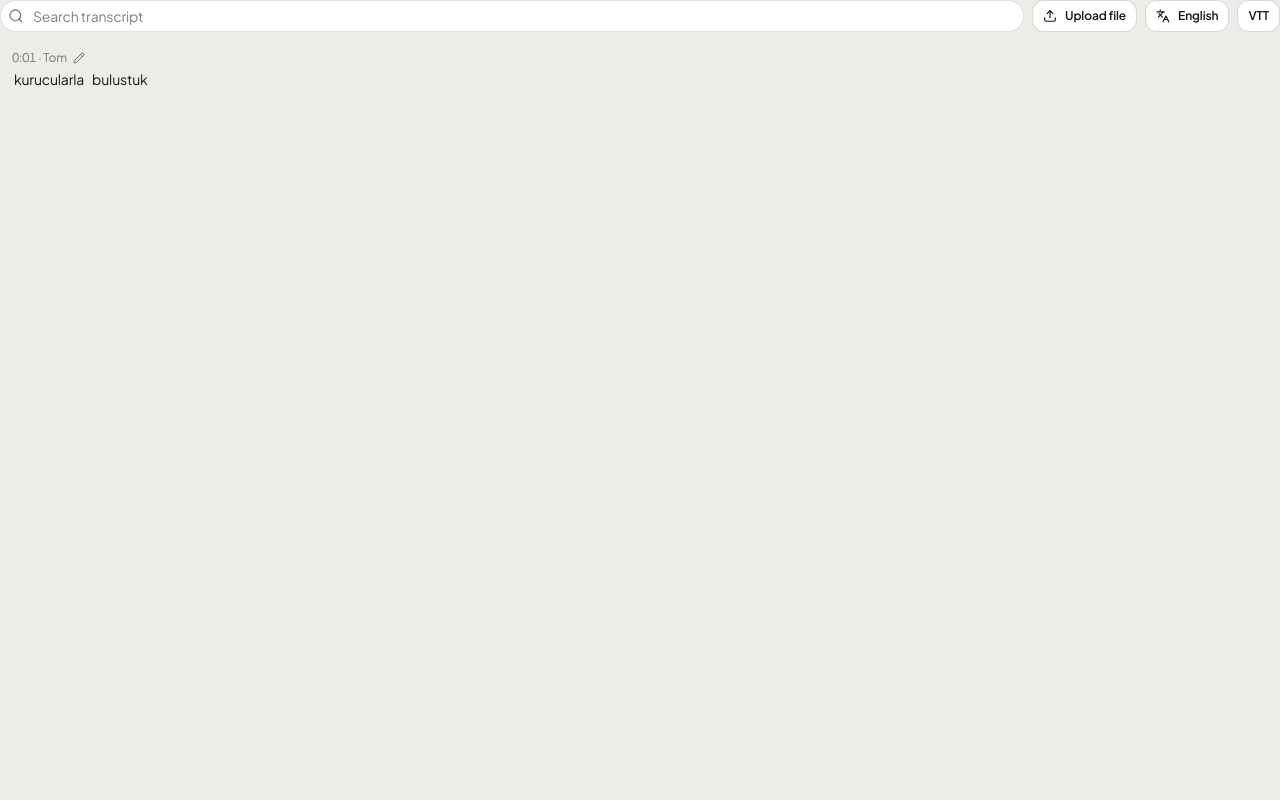
Scenario: TranscriptPane line editing › warns without blocking when the rebuild reported failed
Check: the button "kurucularla" is shown, box [12,68,86,91]
Click the button named "Edit line": (79, 58) [71,50,87,66]
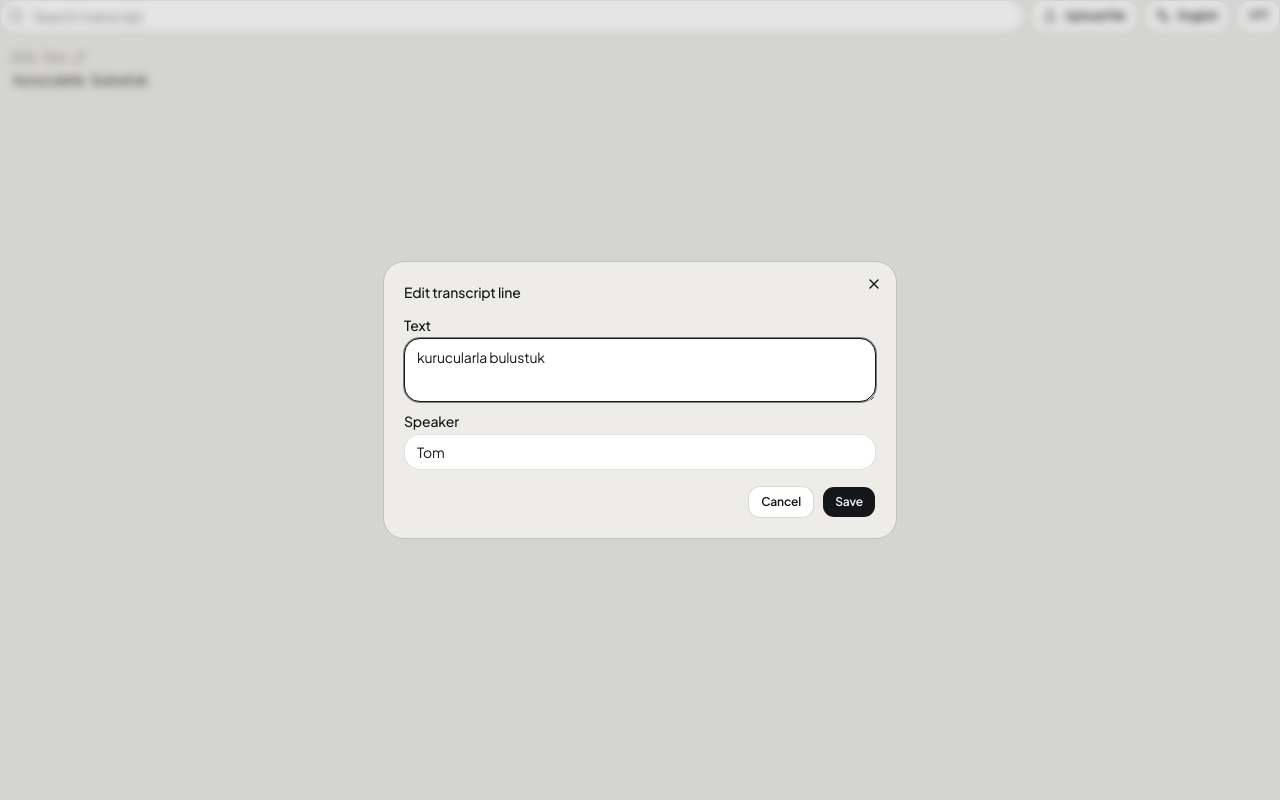
Replace the text in the text box labelled "Text" with "kuruculari bulduk": (640, 370) [404,338,876,402]
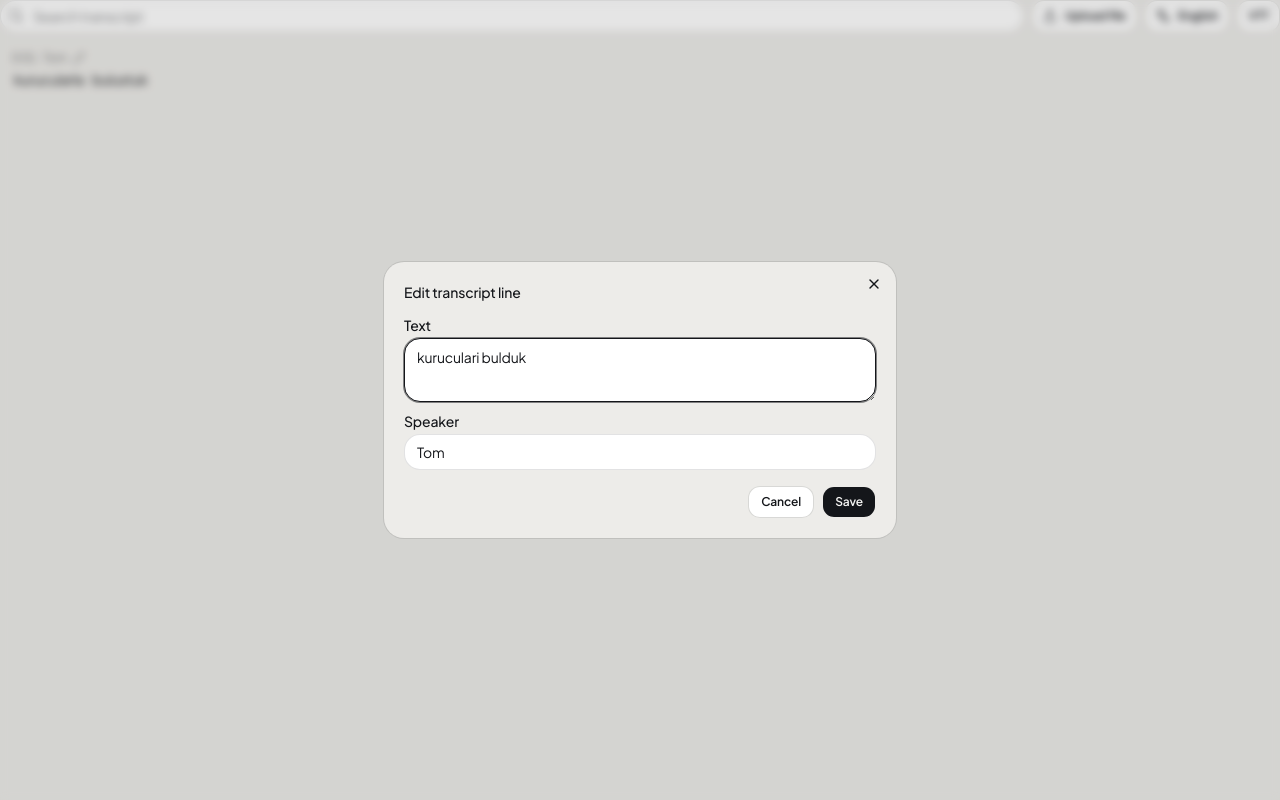
Click the button "Save": (849, 502) [822,486,876,518]
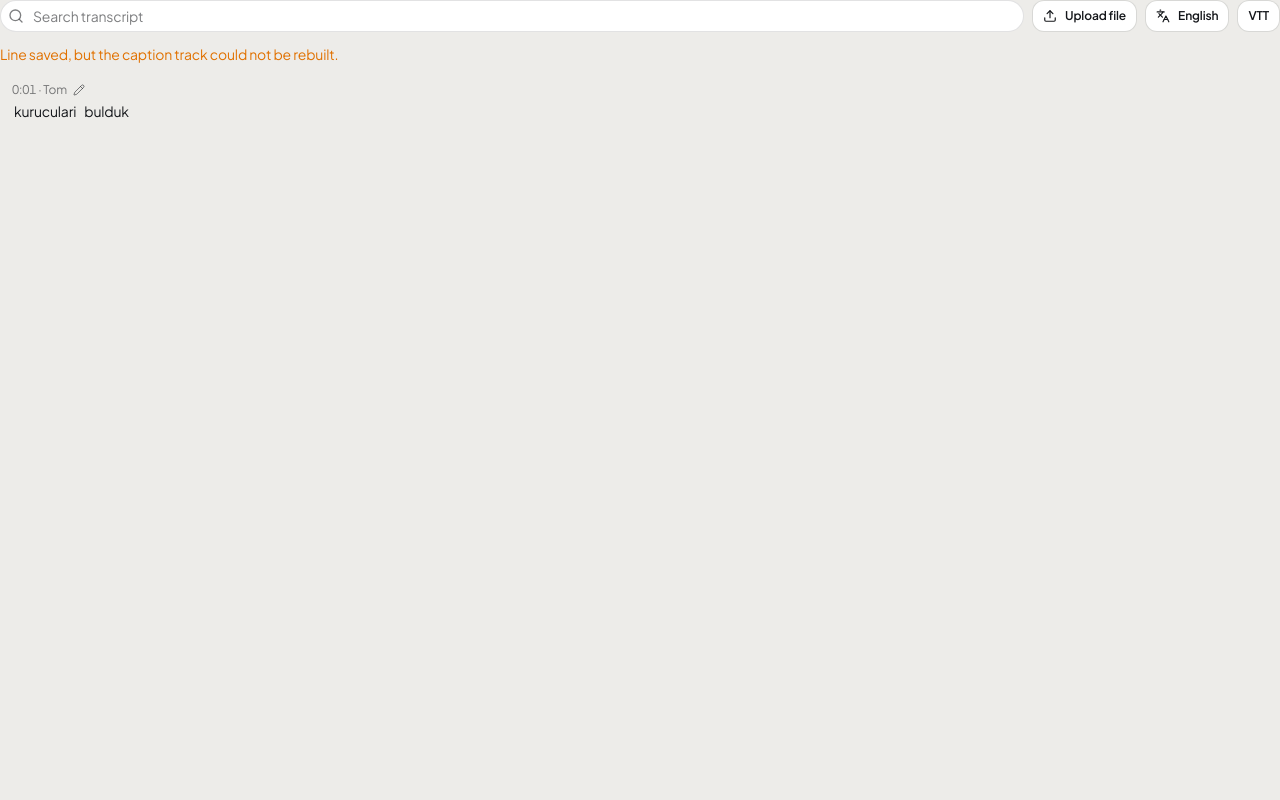
Check: the dialog is gone
Check: the button "kuruculari" is shown, box [12,100,78,123]
Check: the message reads "Line saved, but the caption track could not be rebuilt.", box [0,45,338,63]
